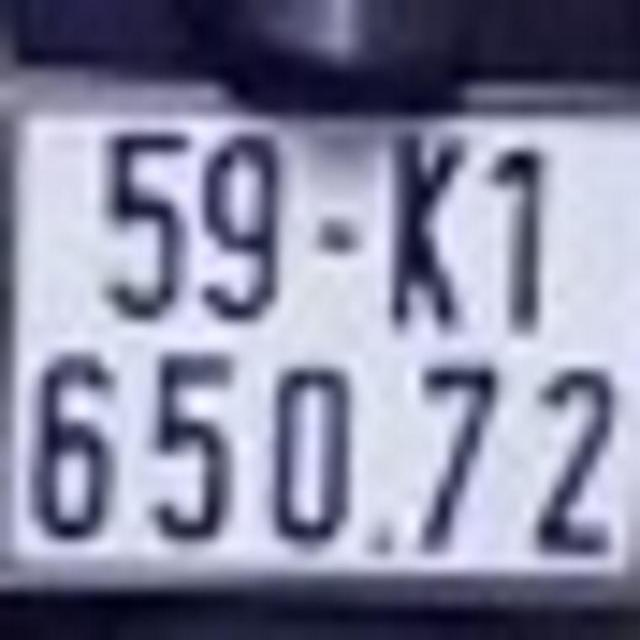0: (268, 354, 354, 544)
1: (478, 137, 560, 338)
2: (530, 360, 620, 559)
5: (95, 121, 195, 322), (150, 340, 238, 544)
6: (28, 342, 119, 548)
7: (408, 360, 502, 564)
9: (200, 122, 284, 328)
K: (384, 121, 471, 330)
